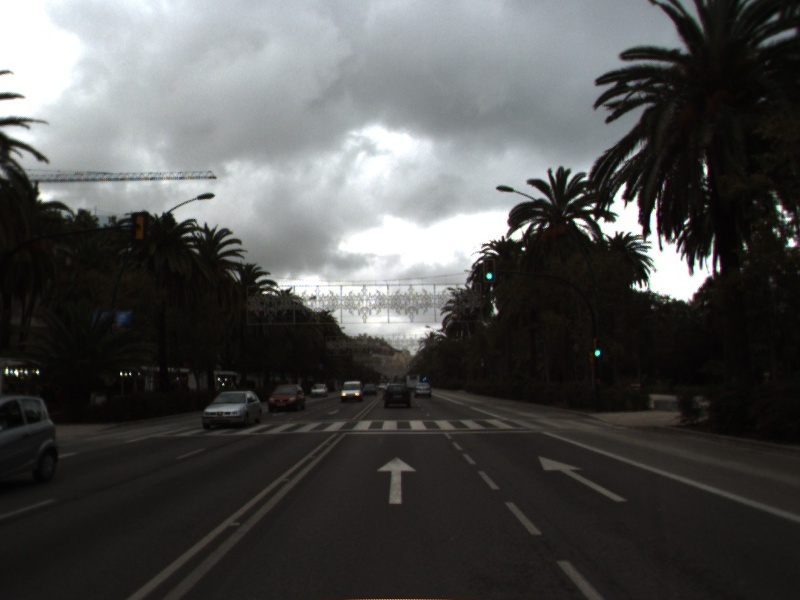STRAIGHT: (536, 454, 629, 504), (374, 453, 419, 506)
